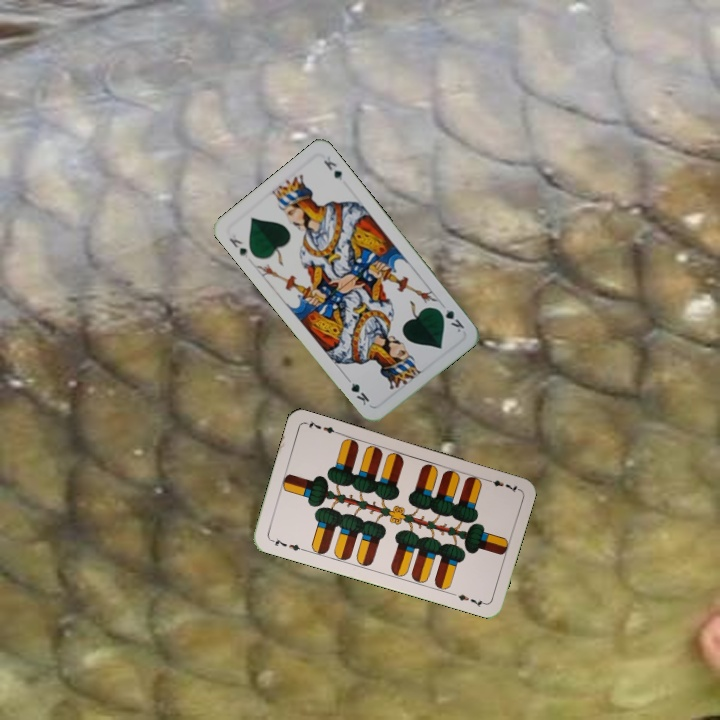E7: (481, 474, 521, 495), (266, 535, 306, 554)
GK: (433, 304, 467, 335), (225, 234, 251, 261)
